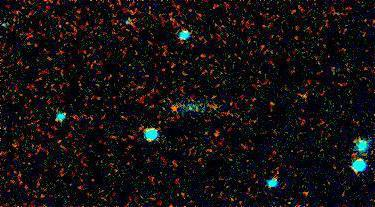star: (158, 94, 188, 124)
